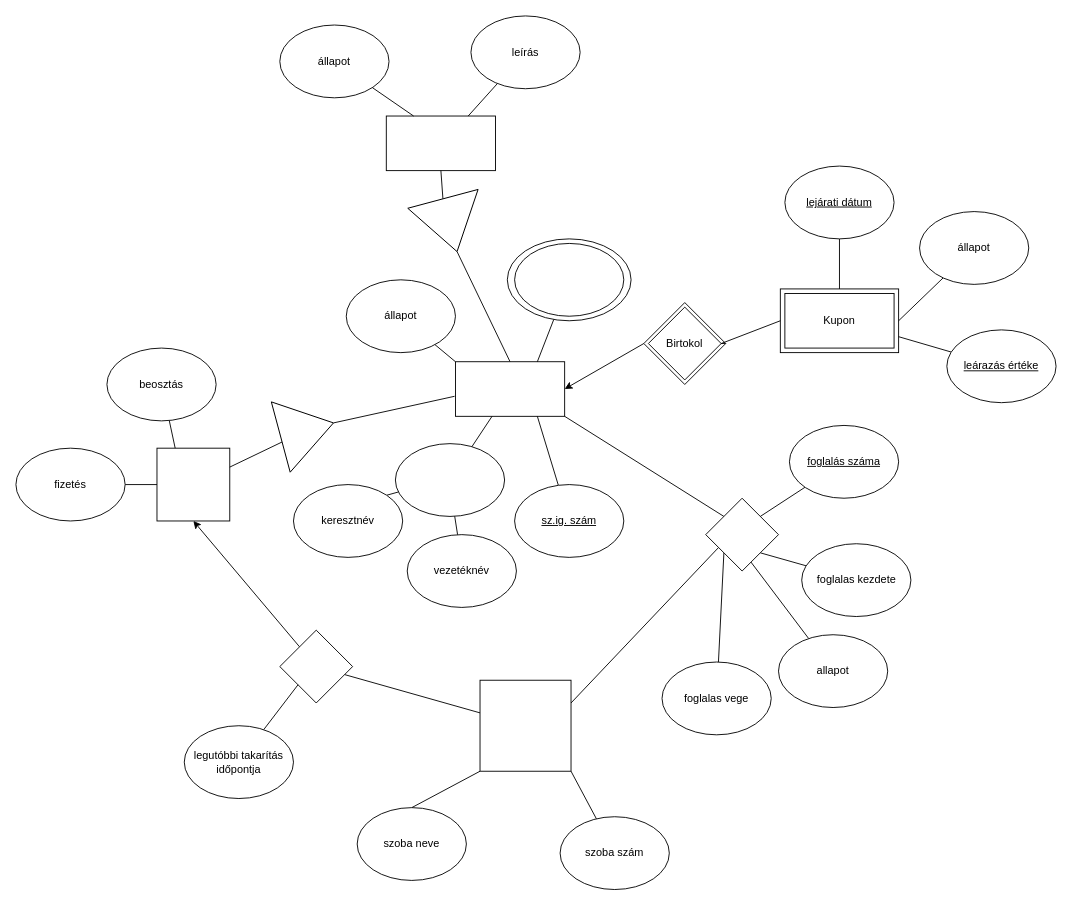
This 1072x905 diagram has some shape labels left out. Each missing label, with the centre of its shape:
Dolgozó: the point at 193,484
Ellenőr: the point at 440,143
Foglalás: the point at 742,534
név: the point at 449,479
Rang: the point at 569,279
Személy: the point at 510,388
Szoba: the point at 525,725
Takarít: the point at 316,666
